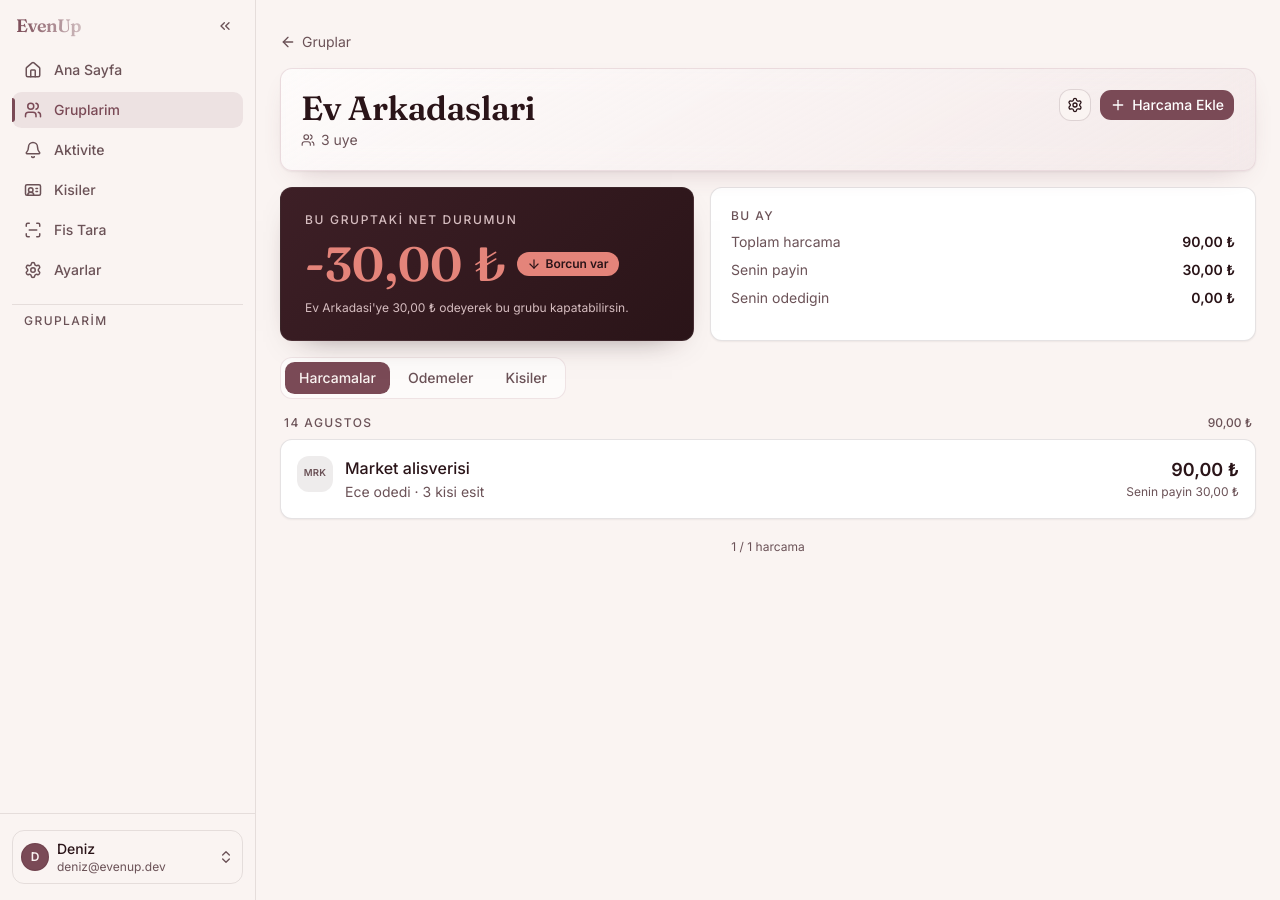
kisiler sekmesi — takma isimler › takma isim varsa gercek ad kaybolmuyor, altta duruyor
Press the mouse on the tab "Kisiler": (526, 378) [491,362,561,394]
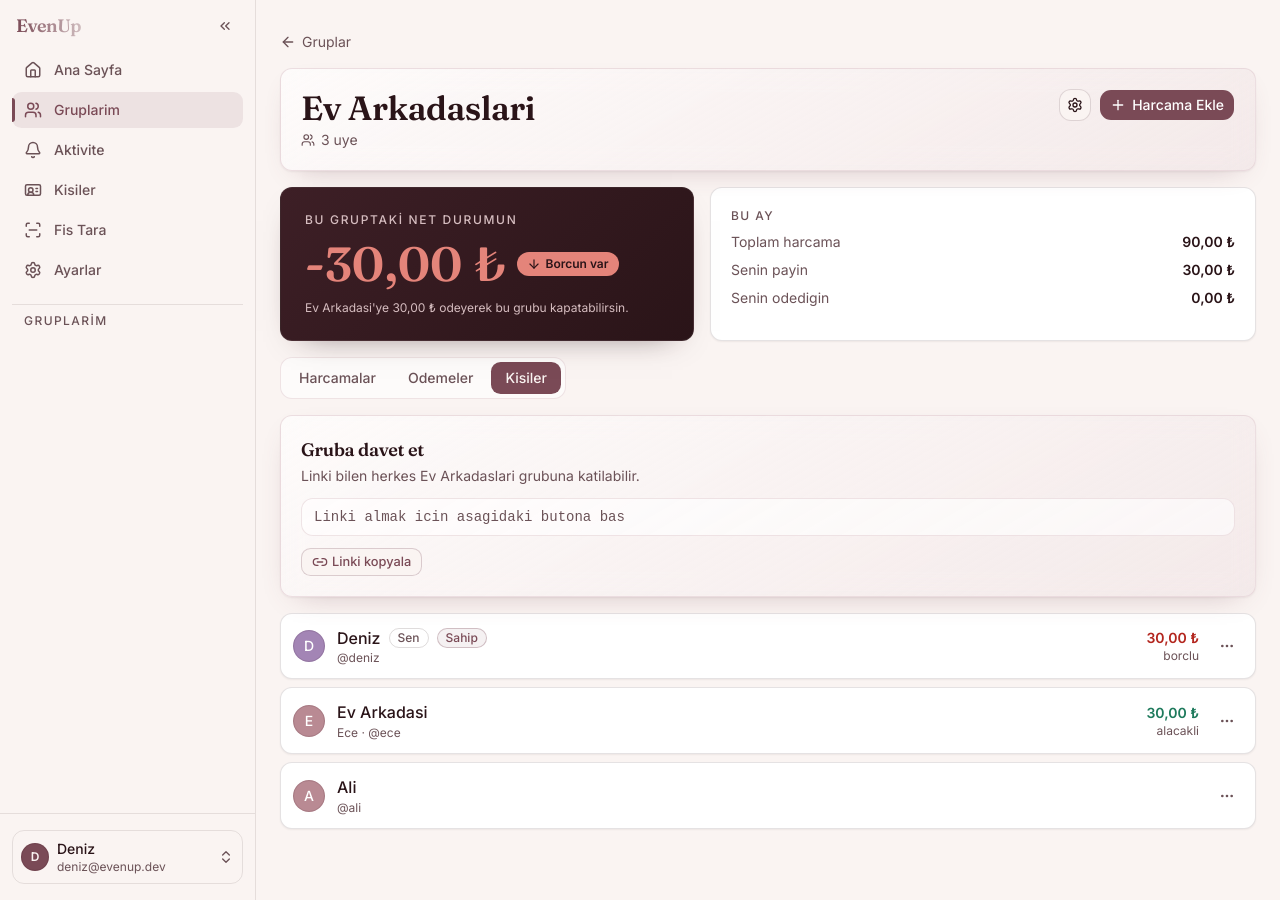
Now the text "Ece · @ece" is shown, box [337,725,401,740]
Press the mouse on the button named "Ev Arkadasi icin islemler": (1227, 721) [1211,705,1243,737]
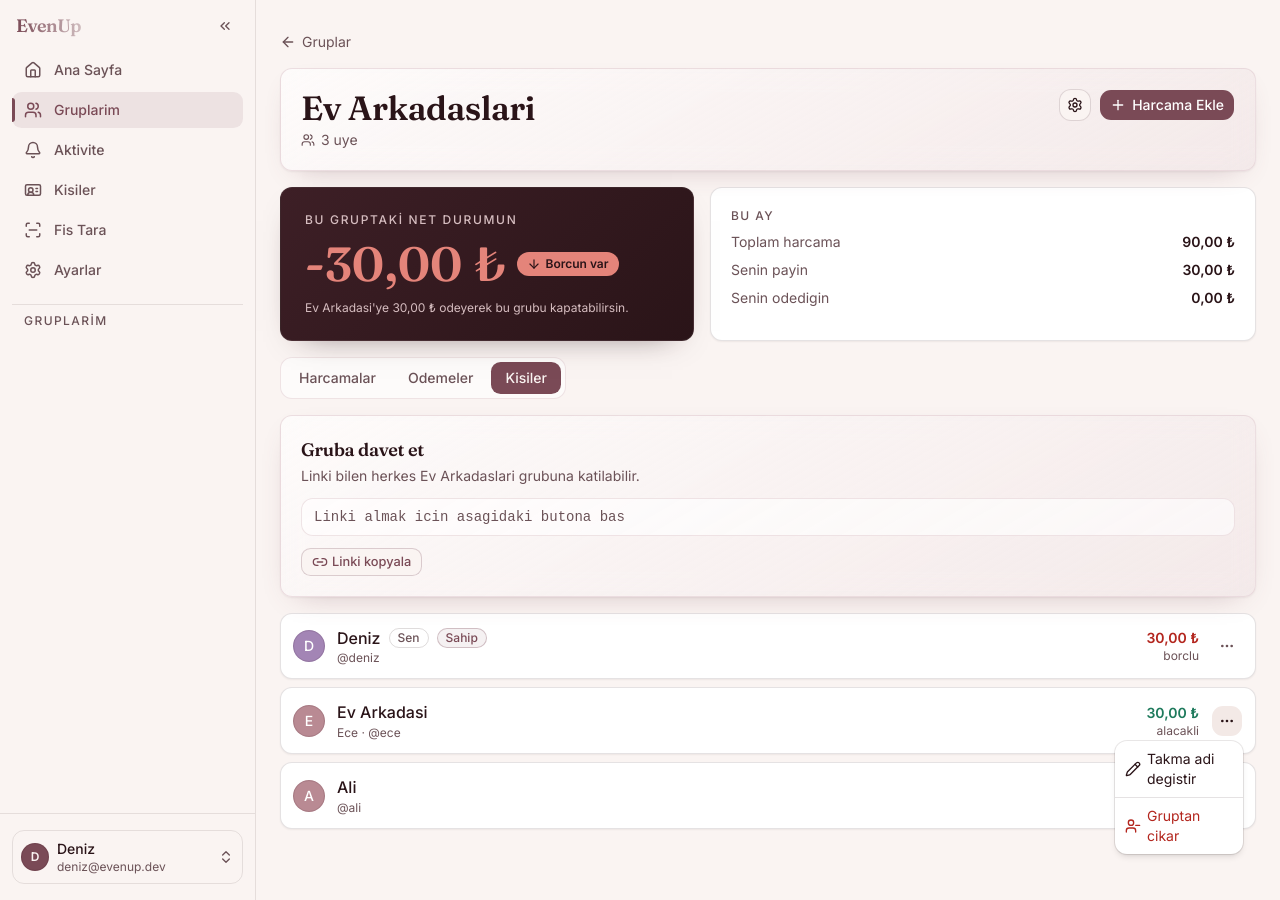
Now the menu item "Takma adi degistir" is shown, box [1125,750,1214,787]
